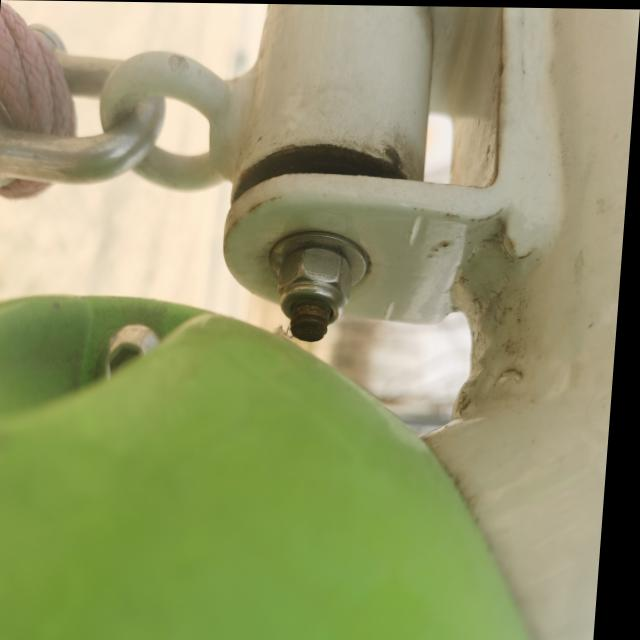Regular bolt: (273, 237, 358, 332)
